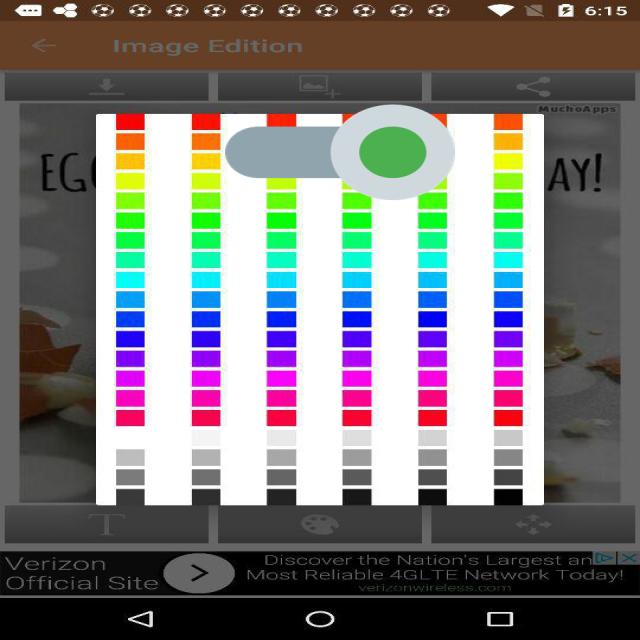social proof: (225, 64, 455, 241)
